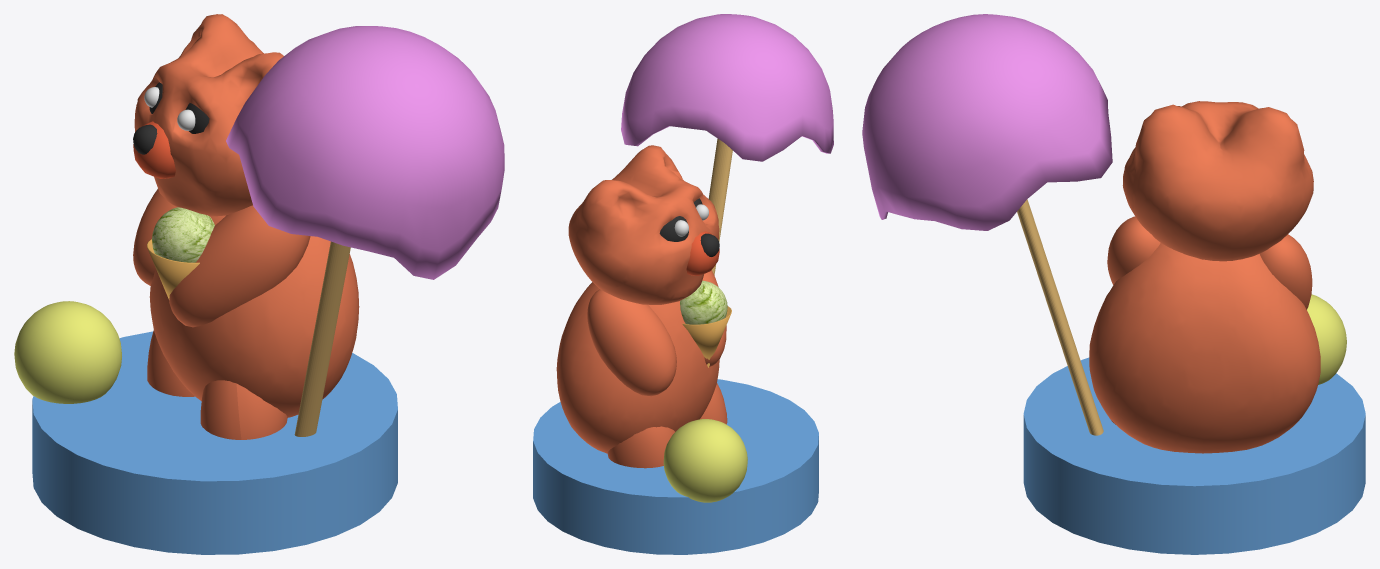
File: beruangremaja.glb
3 views of the same model, side by side, from view 1: azimuth 30°, elevation 25°; view 2: azimuth 150°, elevation 25°; view 3: azimuth 270°, elevation 25° (orthographic). The views are drawn at different scales.
Parts seen in each view (by area): view 1: Cylinder, Sphere.001, Cube.006, Cube.001, Cube.007, Sphere.002, Cylinder.001, Cube.008, Sphere, Cube.002, Cube.009, Cube.004 (+2 smaller); view 2: Cylinder, Sphere.001, Cube.001, Cube.006, Cube.002, Sphere.002, Cube.009, Sphere, Cylinder.001, Cone, Cube.003, Cube.004 (+2 smaller); view 3: Sphere.001, Cylinder, Cube.006, Cube.001, Cylinder.001, Cube.002, Sphere.002, Cube.007.
Part boxes in pixels (left/top/right/bottom): Cylinder: left=32, top=331, right=397, bottom=554; Sphere.001: left=226, top=26, right=504, bottom=279; Cube.006: left=149, top=215, right=359, bottom=417; Cube.001: left=134, top=14, right=283, bottom=216; Cube.007: left=169, top=205, right=310, bottom=327; Sphere.002: left=14, top=301, right=121, bottom=403; Cylinder.001: left=294, top=241, right=350, bottom=436; Cube.008: left=200, top=380, right=287, bottom=439; Sphere: left=152, top=207, right=214, bottom=262; Cube.002: left=133, top=189, right=176, bottom=285; Cube.009: left=147, top=330, right=194, bottom=396; Cube.004: left=133, top=121, right=175, bottom=178; Cylinder: left=533, top=379, right=818, bottom=554; Sphere.001: left=621, top=14, right=833, bottom=161; Cube.001: left=568, top=145, right=719, bottom=304; Cube.006: left=556, top=282, right=719, bottom=453; Cube.002: left=587, top=289, right=676, bottom=396; Sphere.002: left=663, top=419, right=747, bottom=502; Cube.009: left=607, top=426, right=674, bottom=468; Sphere: left=680, top=280, right=727, bottom=324; Cylinder.001: left=708, top=138, right=732, bottom=275; Cone: left=682, top=306, right=731, bottom=367; Cube.003: left=659, top=198, right=719, bottom=256; Cube.004: left=686, top=231, right=719, bottom=275; Sphere.001: left=862, top=14, right=1112, bottom=230; Cylinder: left=1023, top=357, right=1365, bottom=554; Cube.006: left=1089, top=243, right=1320, bottom=453; Cube.001: left=1122, top=101, right=1313, bottom=261; Cylinder.001: left=1017, top=199, right=1103, bottom=435; Cube.002: left=1260, top=234, right=1312, bottom=309; Sphere.002: left=1307, top=294, right=1346, bottom=384; Cube.007: left=1107, top=216, right=1160, bottom=284.
Bounding box in the file's own units: 3.56 × 5.47 × 5.24.
10 materials, 1 textured.
